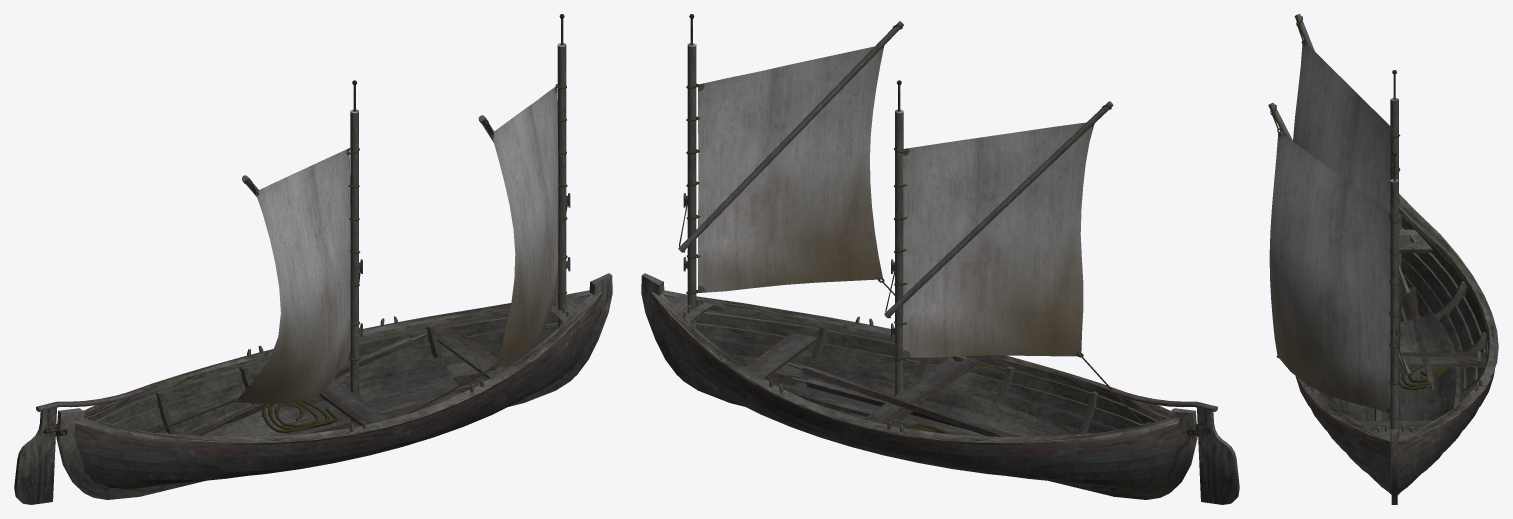
Rendered from karbas.glb.
3 renders of one model, left to right at view 1: azimuth 30°, elevation 25°; view 2: azimuth 150°, elevation 25°; view 3: azimuth 270°, elevation 25°, orthographic. The views are drawn at different scales.
Visible parts, largest first — view 1: polySurface69, LP_02_boat_low2, pCylinder33; view 2: LP_02_boat_low2, polySurface69, pCylinder33; view 3: LP_02_boat_low2, polySurface69, pCylinder33.
Part boxes in pixels (<box>): polySurface69: <box>14,43,612,504</box>; LP_02_boat_low2: <box>237,86,558,403</box>; pCylinder33: <box>151,84,568,433</box>; LP_02_boat_low2: <box>698,46,1094,357</box>; polySurface69: <box>641,21,1239,504</box>; pCylinder33: <box>679,25,1143,434</box>; LP_02_boat_low2: <box>1269,41,1390,413</box>; polySurface69: <box>1268,14,1498,504</box>; pCylinder33: <box>1270,16,1448,419</box>.
Size of the model in its own units: 23.51 by 14.27 by 8.27.
1 material, 1 textured.
